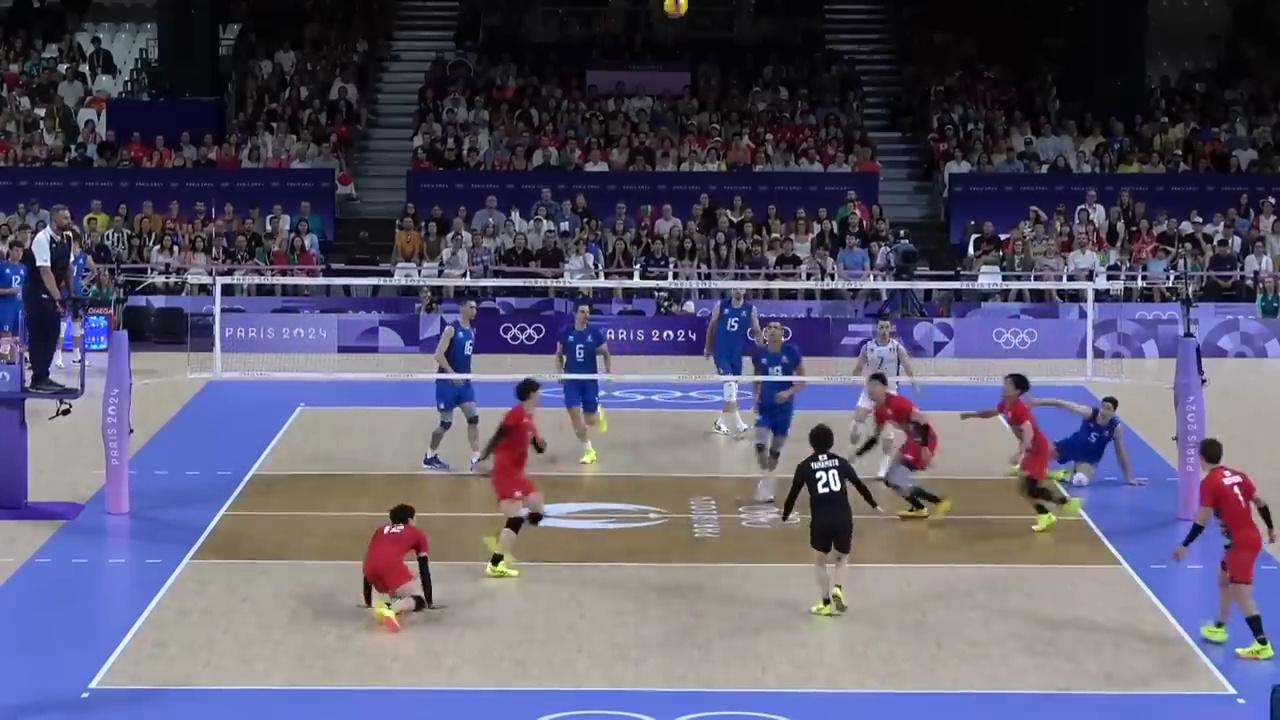ball: (663, 0, 688, 16)
